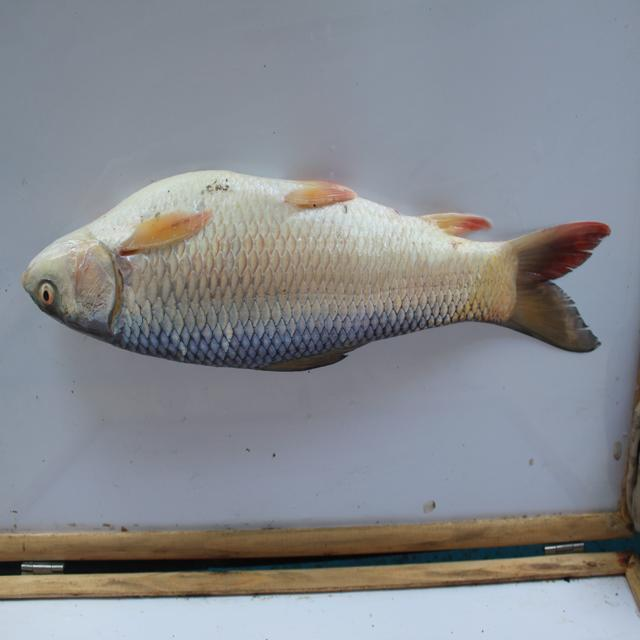Mori: (21, 160, 619, 387)
